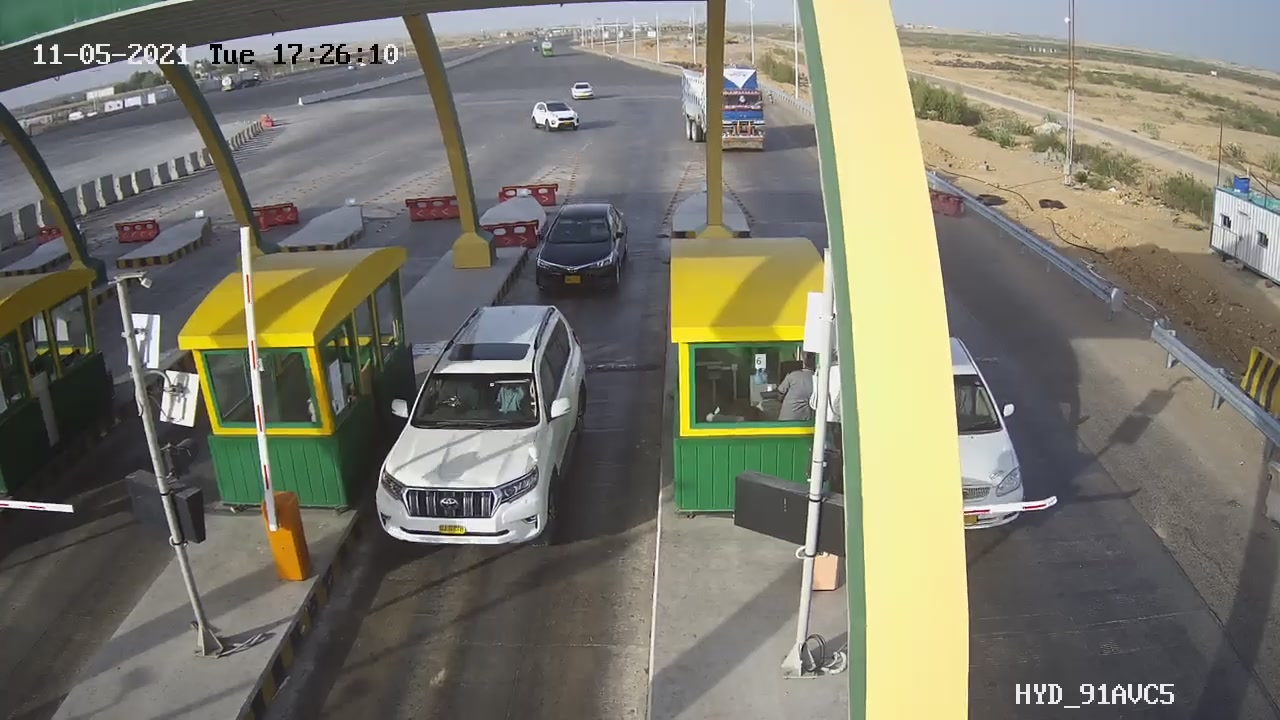F1: (356, 281, 612, 569), (520, 190, 646, 300)
